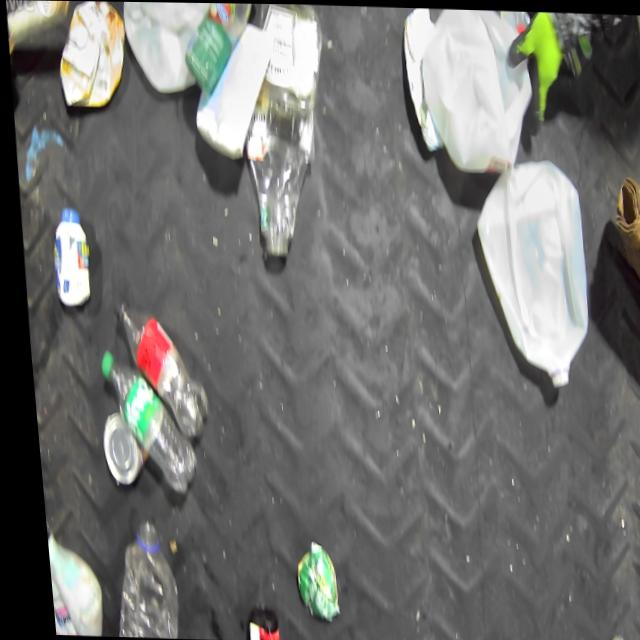can: (183, 4, 276, 158), (282, 538, 331, 625), (90, 415, 136, 487), (232, 600, 270, 640)
milk_jug: (466, 159, 592, 386), (413, 6, 537, 176), (119, 1, 232, 96)
non_white_jug: (52, 1, 130, 115)
plastic_bottle: (234, 3, 336, 259), (88, 349, 190, 494), (105, 296, 204, 440), (94, 517, 172, 638), (178, 2, 268, 94)
